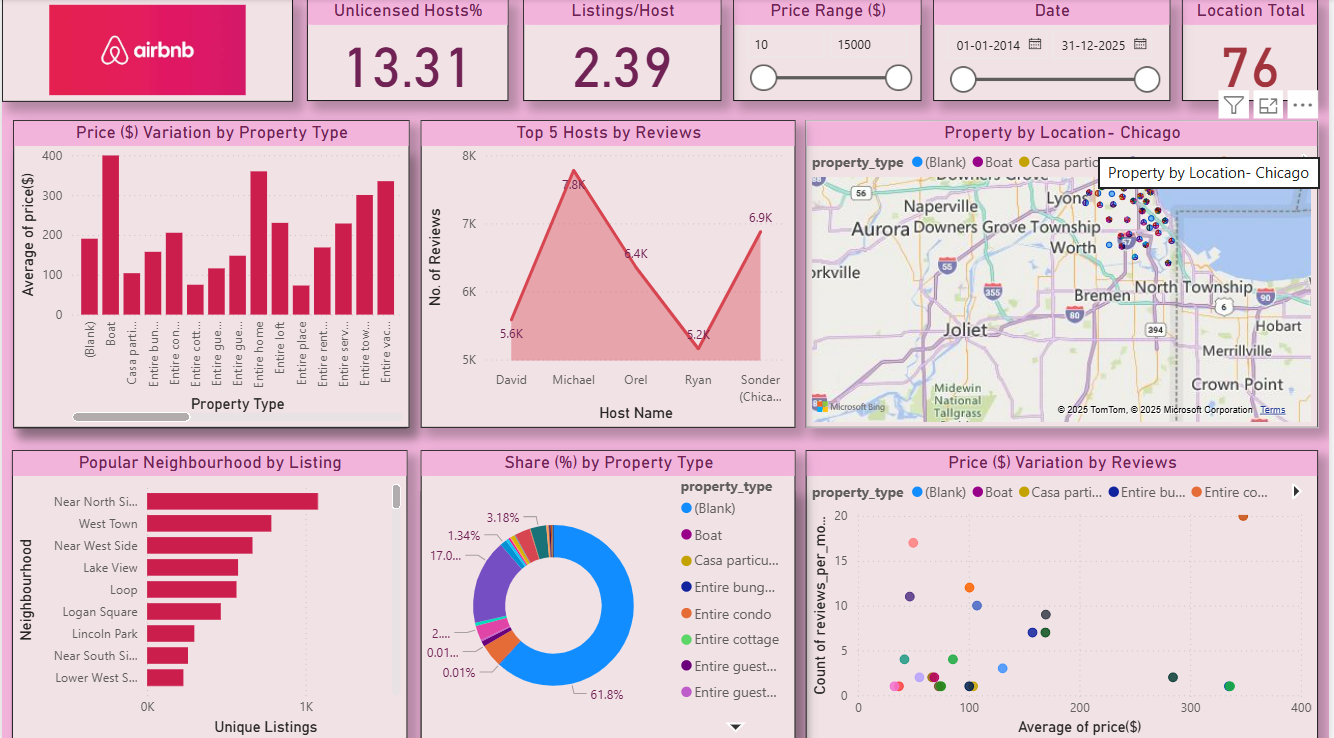

Layout of this report page (visuals, bound fields, positions):
{"tool":"powerbi","page":{"name":"Chicago","canvas":[1280,720],"ordinal":0},"visuals":[{"type":"slicer","title":"Price Range ($)","fields":{"Values":["Chicago_listings.price"]},"box":[705.7,0,181.4,98.6],"z":1000},{"type":"card","title":"Location Total","fields":{"Values":["Count(Chicago_listings.neighbourhood)"]},"box":[1138.6,0,131.4,98.6],"z":2000},{"type":"columnChart","title":"Price ($) Variation by Property Type","fields":{"Category":["Chicago_listings.property_type"],"Y":["Avg(Chicago_listings.price)"]},"box":[382.4,117,382.4,296.8],"z":3000},{"type":"scatterChart","title":"Price ($) Variation by Reviews","fields":{"X":["Avg(Chicago_listings.price)"],"Y":["CountNonNull(Chicago_listings.reviews_per_month)"],"Series":["Chicago_listings.property_type"]},"box":[775.7,435.7,494.3,281.4],"z":4000},{"type":"map","title":"Property by Location- Chicago","fields":{"Category":["Chicago_listings.neighbourhood"],"Series":["Chicago_listings.property_type"],"Y":["Avg(Chicago_listings.latitude)"],"X":["Avg(Chicago_listings.longitude)"]},"box":[775.7,117.1,494.3,297.1],"z":5000},{"type":"card","title":"Unlicensed Hosts%","fields":{"Values":["Measure_Table.Unlicensed Host %"]},"box":[294.3,0,194.3,98.6],"z":6000},{"type":"card","title":"Listings/Host","fields":{"Values":["Measure_Table.Listings/host"]},"box":[502.9,0,191.4,98.6],"z":7000},{"type":"slicer","title":"Date","fields":{"Values":["Calendar.Date"]},"box":[898.6,0,228.6,98.6],"z":8000},{"type":"barChart","title":"Popular Neighbourhood by Listing","fields":{"Category":["Chicago_listings.neighbourhood"],"Y":["Chicago_listings.CH_Unique Listings"]},"box":[9.7,435.5,381.2,281.1],"z":10000},{"type":"donutChart","title":"Share (%) by Property Type","fields":{"Category":["Chicago_listings.property_type"],"Y":["Measure_Table.PropertyType Share (%)"]},"box":[9.7,117,361.9,296.8],"z":11000},{"type":"areaChart","title":"Top 5 Hosts by Reviews","fields":{"Category":["Chicago_listings.host_name"],"Y":["TopN_Selector.Dynamic Top N Hosts by Reviews CH"]},"box":[403,435.5,361.9,284.7],"z":12000},{"type":"textbox","box":[9.7,0,270.2,98.9],"z":13000}]}

Visuals, with their boxes in screenshot pixels (x1, y1, x2, y2), scaled from the page's 1280x720 canvas onto the 1334x738 screenshot:
"Price Range ($)" slicer: bbox=[735, 0, 925, 101]
"Location Total" card: bbox=[1187, 0, 1324, 101]
"Price ($) Variation by Property Type" columnChart: bbox=[399, 120, 797, 424]
"Price ($) Variation by Reviews" scatterChart: bbox=[808, 447, 1324, 735]
"Property by Location- Chicago" map: bbox=[808, 120, 1324, 425]
"Unlicensed Hosts%" card: bbox=[307, 0, 509, 101]
"Listings/Host" card: bbox=[524, 0, 724, 101]
"Date" slicer: bbox=[937, 0, 1175, 101]
"Popular Neighbourhood by Listing" barChart: bbox=[10, 446, 407, 735]
"Share (%) by Property Type" donutChart: bbox=[10, 120, 387, 424]
"Top 5 Hosts by Reviews" areaChart: bbox=[420, 446, 797, 737]
textbox: bbox=[10, 0, 292, 101]
